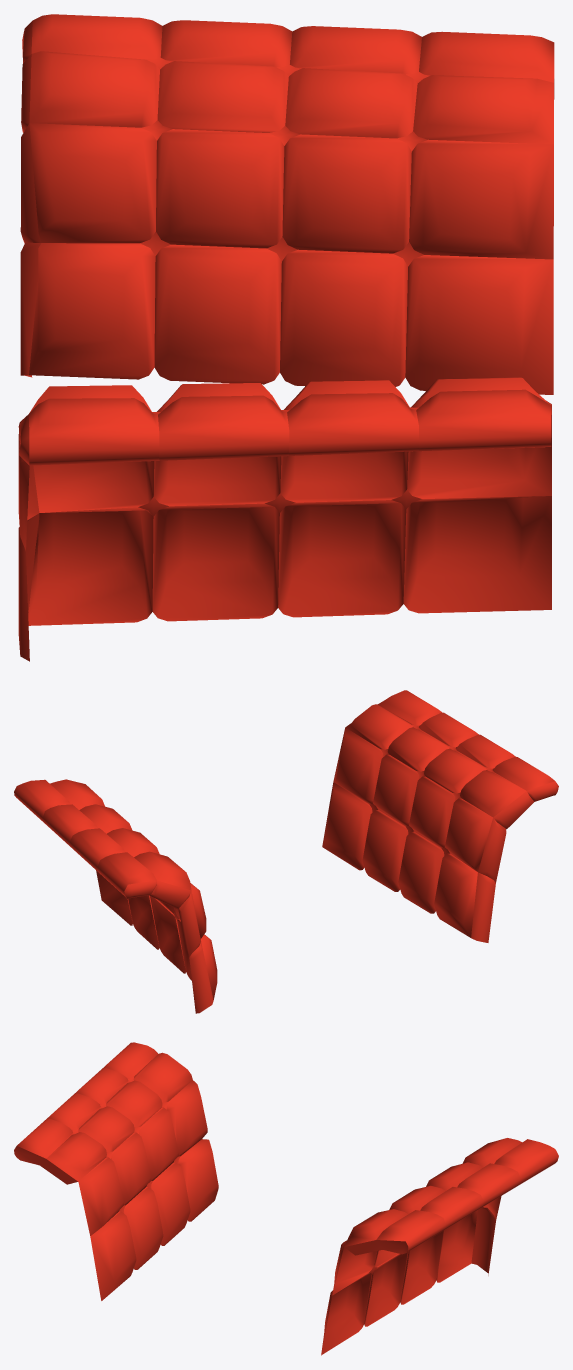
Rendered from m_roomOfPoleDance_armChair_pillow_01.fbx.
3 renders of one model, top to bottom at view 1: azimuth 30°, elevation 25°; view 2: azimuth 150°, elevation 25°; view 3: azimuth 270°, elevation 25°, orthographic. The views are drawn at different scales.
Visible parts, largest first — view 1: m_roomOfPoleDance_armChair_pillow_01; view 2: m_roomOfPoleDance_armChair_pillow_01; view 3: m_roomOfPoleDance_armChair_pillow_01.
Boxes of the visible parts, x1,y1,x2,y2 form: m_roomOfPoleDance_armChair_pillow_01: (18, 14, 554, 661); m_roomOfPoleDance_armChair_pillow_01: (14, 690, 558, 1013); m_roomOfPoleDance_armChair_pillow_01: (14, 1042, 558, 1355).
Bounding box in the file's own units: 74.54 × 26.96 × 86.77.
